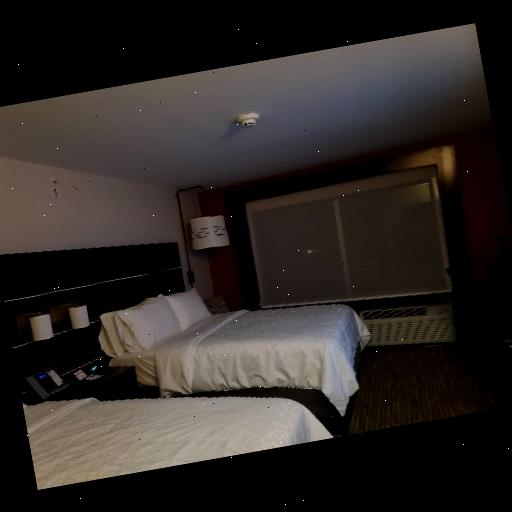clean_bed: (71, 246, 370, 421), (23, 398, 336, 492)
organised_pillow: (91, 283, 214, 367)
